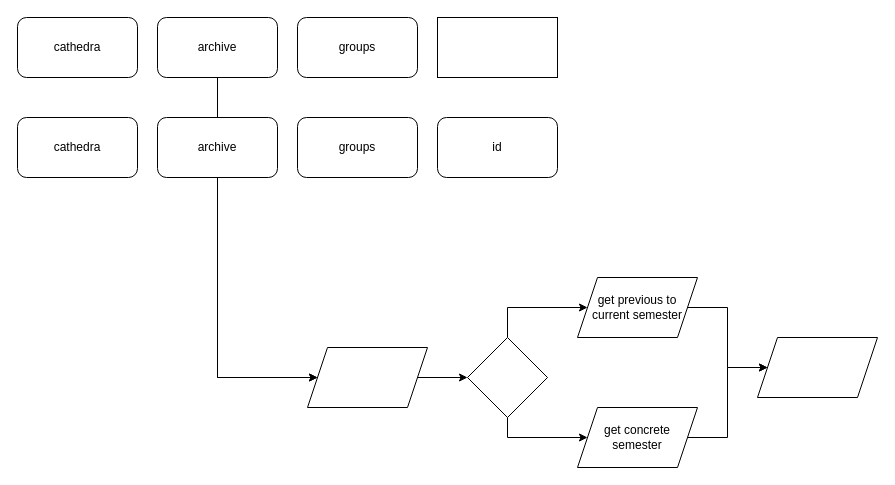
The diagram is 895 pixels wide and 485 high, and some of its shapes have lost their labels. The shapes that lost their labels are listed below. From the top down, each one's centre as x and y in pixels, then its label:
(497,47): semester=id
(367,377): get_queryset
(507,377): if semester is None
(817,367): load groups to selected
